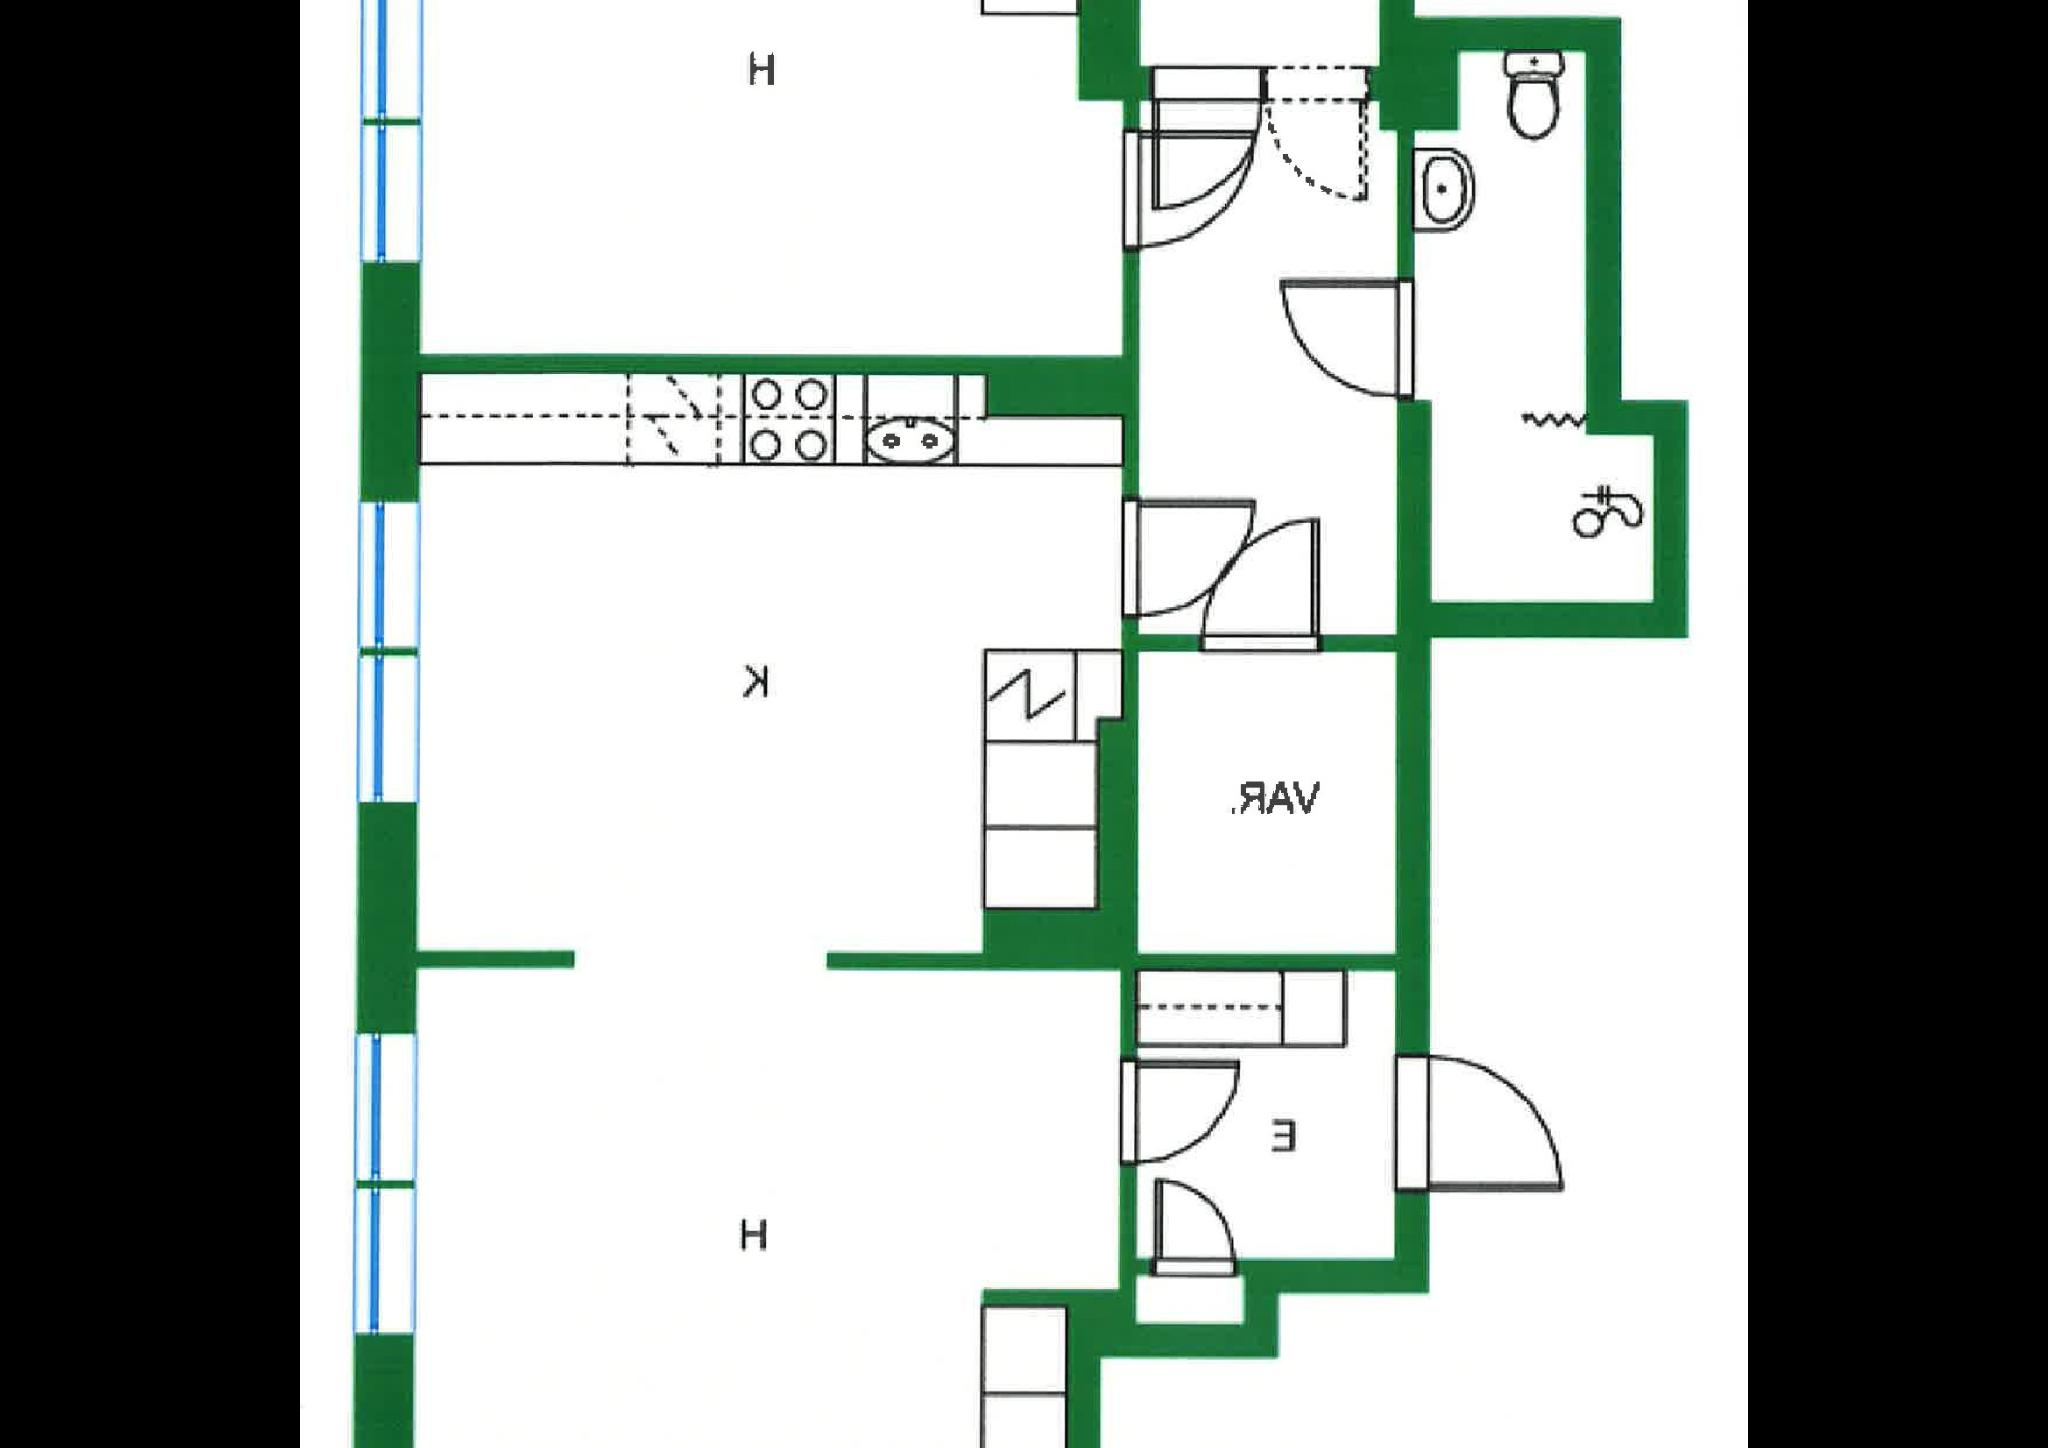bathroom: (1407, 58, 1590, 412)
door: (1390, 1048, 1573, 1205), (1199, 514, 1338, 663), (1116, 494, 1266, 621), (1275, 270, 1421, 400), (1116, 124, 1258, 254), (1147, 60, 1261, 210), (1258, 66, 1376, 208), (1109, 1052, 1244, 1171), (1153, 1174, 1241, 1282)
perimeter: (368, 0, 1691, 1448)
window: (345, 1014, 432, 1188), (345, 1180, 429, 1346), (349, 486, 432, 653), (349, 118, 436, 274), (351, 647, 429, 810), (356, 0, 428, 122)
